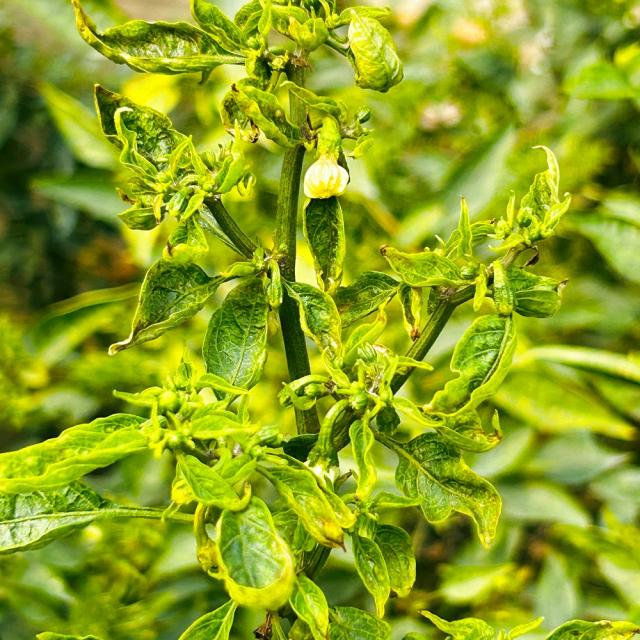Chilli_Leaf_Curl: (1, 0, 573, 638), (393, 138, 572, 442), (80, 82, 264, 246), (54, 4, 324, 78), (212, 492, 296, 612), (344, 7, 404, 93)
